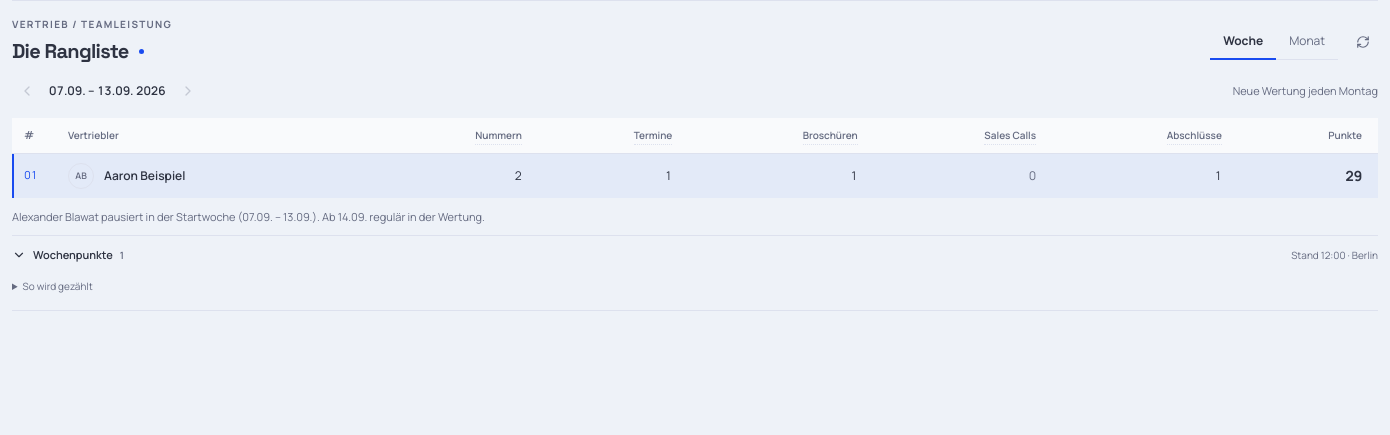
Test: sales ranking › shows compact metrics, the first-week pause and persistent weekly points
Expected: the text "Aaron Beispiel" is shown, [104,166,185,184]
Expected: the column heading "Broschüren" is shown, [688,118,874,153]
What coordinates should you click on to do the following:
click the button "Wochenpunkte 1"
I would click on:
 (68, 255)
Its box is [12,247,124,264].
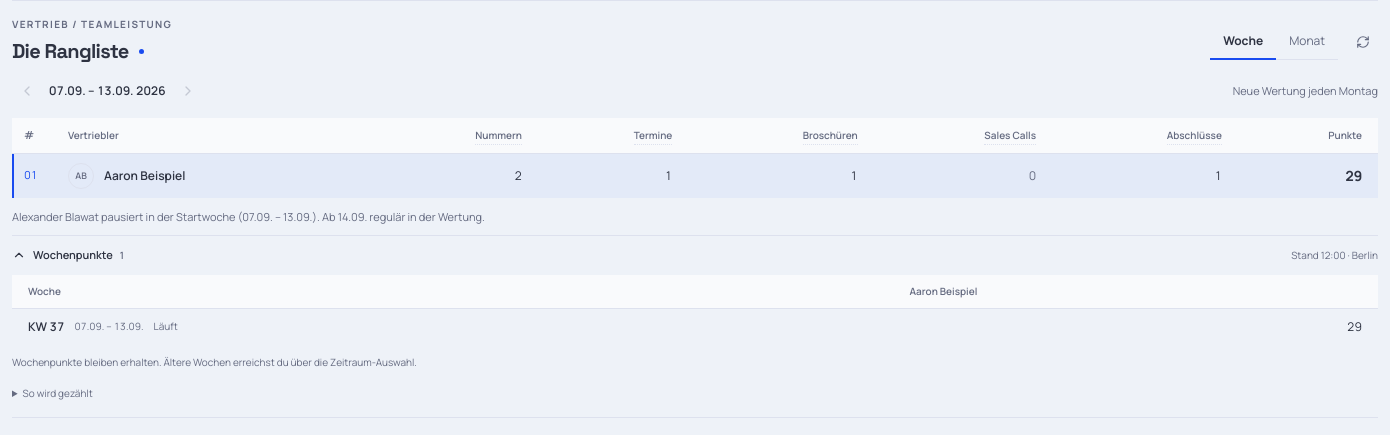
Expected: the button named "Vorheriger Zeitraum" is disabled, [12,76,42,106]
Expected: the button "KW 37 07.09. – 13.09. Läuft" is shown, [28,318,178,336]
